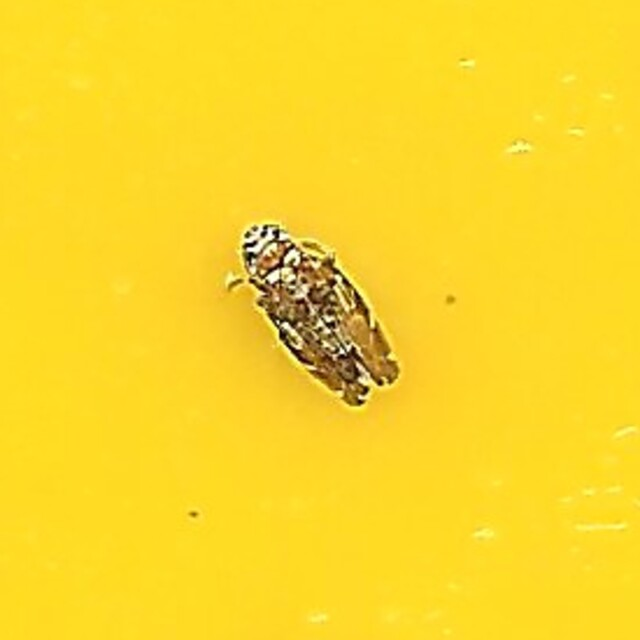Hemiptera: (233, 227, 407, 413)
